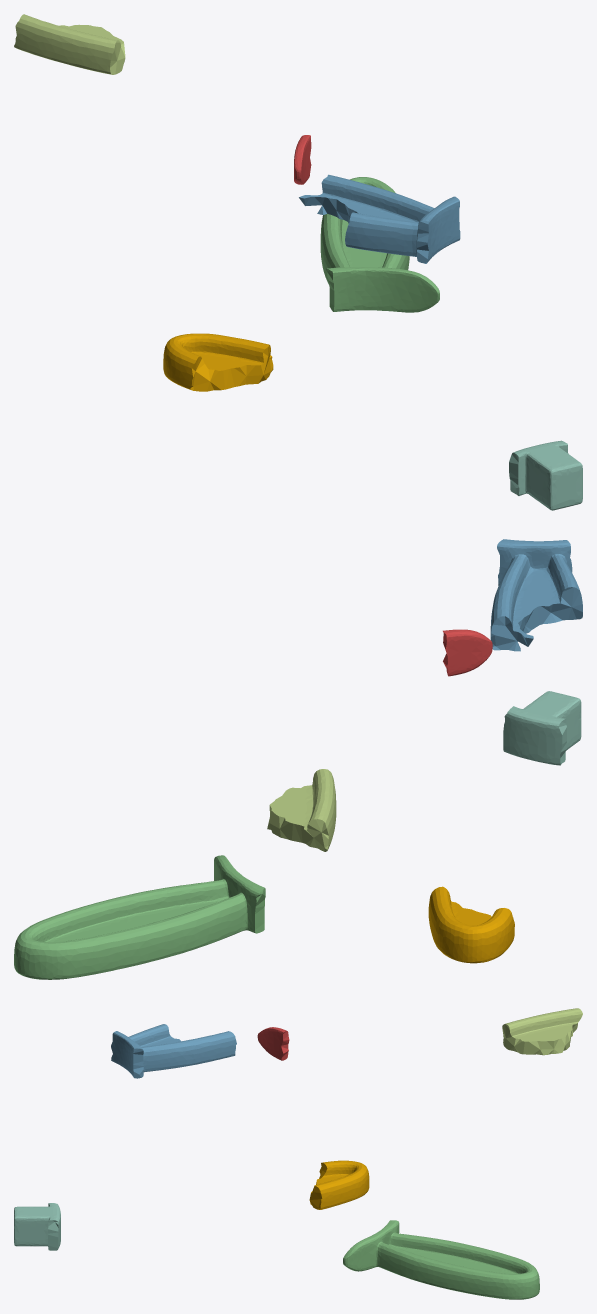
The model's file is mode_7_6pcs_transformed.glb.
The picture shows the model from 3 angles, top to bottom: view 1: azimuth 30°, elevation 25°; view 2: azimuth 150°, elevation 25°; view 3: azimuth 270°, elevation 25°; orthographic projection. The views are drawn at different scales.
Parts seen in each view (by area): view 1: piece_2.obj, piece_3.obj, piece_0.obj, piece_5.obj, piece_4.obj, piece_1.obj; view 2: piece_3.obj, piece_2.obj, piece_4.obj, piece_0.obj, piece_5.obj, piece_1.obj; view 3: piece_3.obj, piece_2.obj, piece_5.obj, piece_0.obj, piece_4.obj, piece_1.obj.
Boxes of the visible parts, <box> form: piece_2.obj: <box>299,174,460,263</box>; piece_3.obj: <box>320,177,439,312</box>; piece_0.obj: <box>163,333,273,391</box>; piece_5.obj: <box>14,14,125,74</box>; piece_4.obj: <box>509,440,582,510</box>; piece_1.obj: <box>294,135,311,184</box>; piece_3.obj: <box>14,855,265,979</box>; piece_2.obj: <box>490,539,582,651</box>; piece_4.obj: <box>503,691,581,765</box>; piece_0.obj: <box>428,886,514,963</box>; piece_5.obj: <box>267,769,336,851</box>; piece_1.obj: <box>443,629,492,676</box>; piece_3.obj: <box>343,1220,539,1299</box>; piece_2.obj: <box>111,1024,236,1078</box>; piece_5.obj: <box>502,1008,582,1055</box>; piece_0.obj: <box>309,1160,369,1209</box>; piece_4.obj: <box>14,1203,60,1250</box>; piece_1.obj: <box>257,1027,289,1060</box>.
Size of the model in its own units: 1 by 0.7155 by 2.
